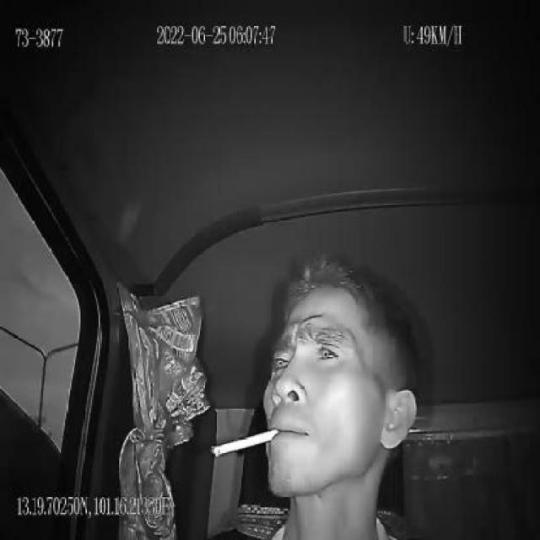smoking: (212, 426, 280, 456)
